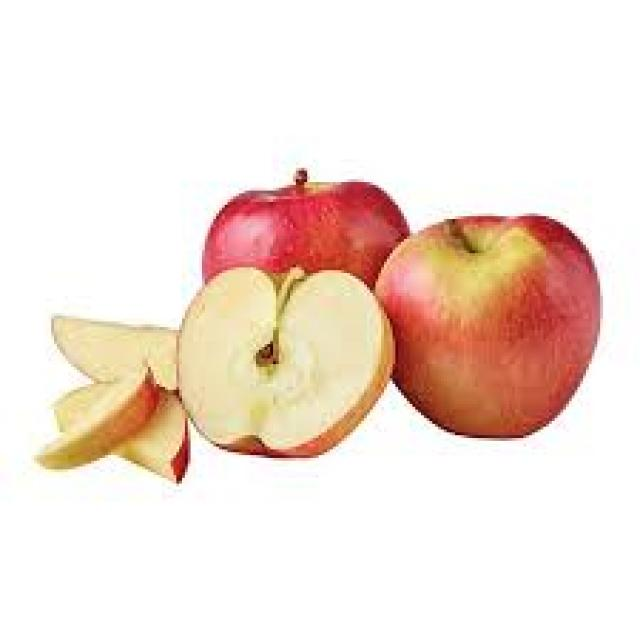Apple: (386, 212, 600, 438), (181, 265, 395, 454), (199, 170, 414, 284), (37, 371, 147, 468), (52, 309, 183, 383), (134, 388, 197, 481)
